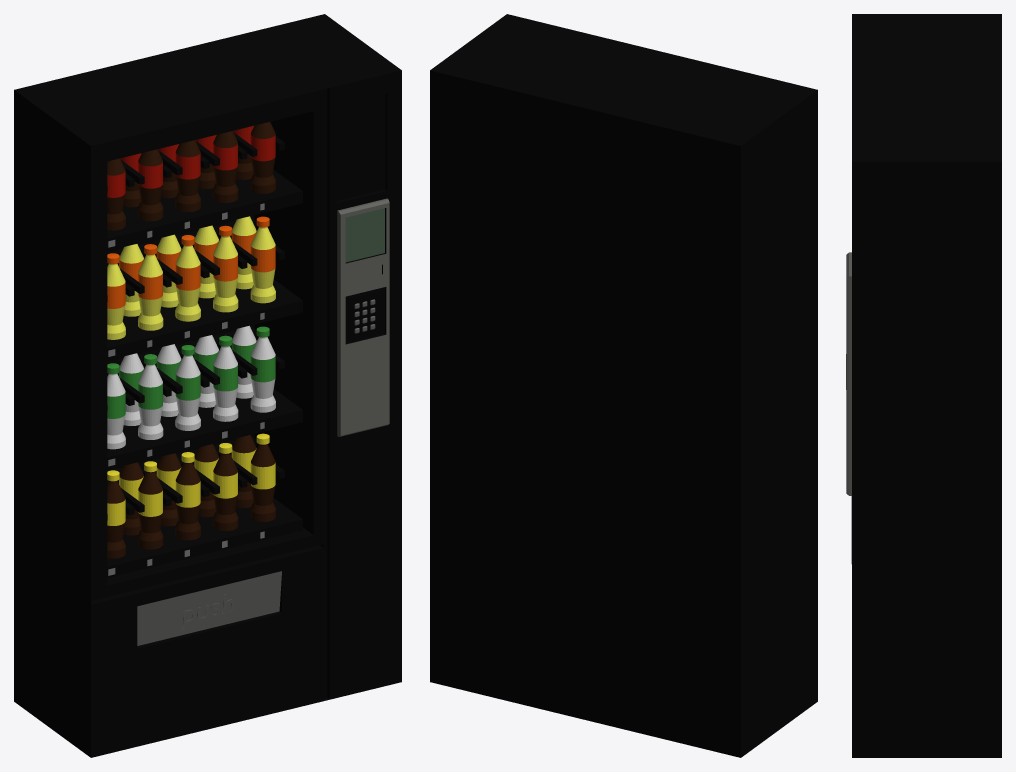
File: drankautomaat01.gltf
The picture shows the model from 3 angles, left to right: view 1: azimuth 30°, elevation 25°; view 2: azimuth 150°, elevation 25°; view 3: azimuth 270°, elevation 25°; orthographic projection. The views are drawn at different scales.
Visible parts, largest first — view 1: automaat, rekken, icetea, fanta, sprite, cola; view 2: automaat; view 3: automaat.
Boxes of the visible parts, x1,y1,x2,y2 form: automaat: (14,14,401,757); rekken: (107,132,302,577); icetea: (107,433,275,558); fanta: (107,216,275,339); sprite: (107,325,275,449); cola: (107,122,275,230); automaat: (430,14,817,757); automaat: (846,14,1001,757).
Bounding box in the file's own units: 2.43 × 4.57 × 1.08.
